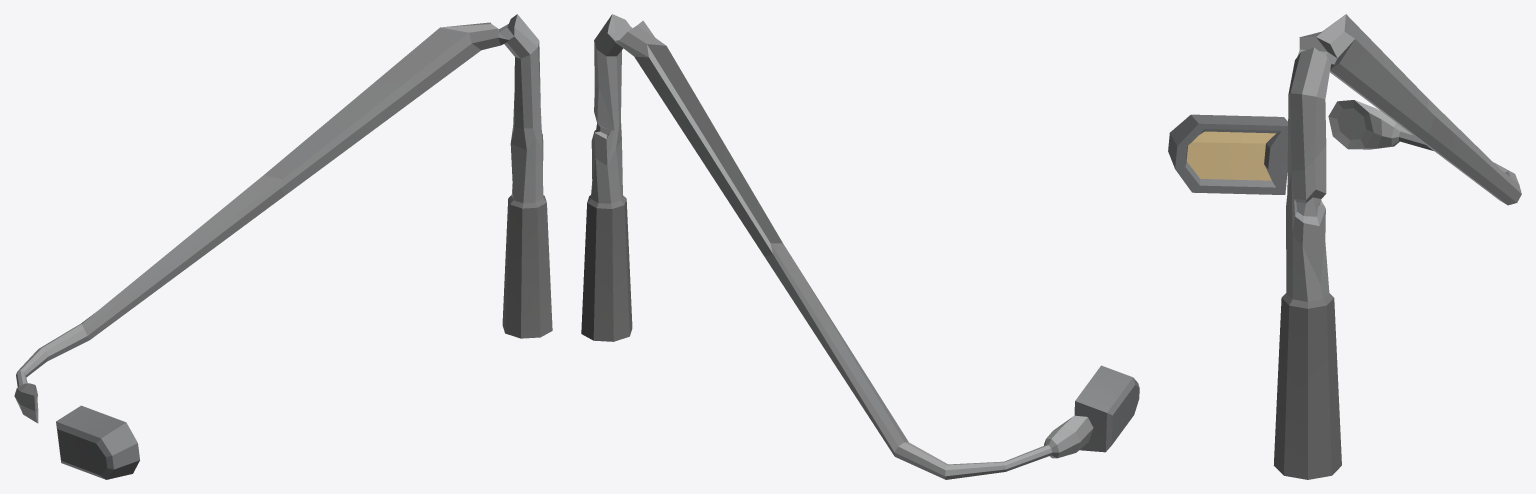
The model's file is lamp_2.glb.
3 renders of one model, left to right at view 1: azimuth 30°, elevation 25°; view 2: azimuth 150°, elevation 25°; view 3: azimuth 270°, elevation 25°, orthographic. The views are drawn at different scales.
Visible parts, largest first — view 1: lamp_2; view 2: lamp_2; view 3: lamp_2.
Boxes of the visible parts, bbox=[...] form: lamp_2: bbox=[14, 14, 552, 479]; lamp_2: bbox=[581, 14, 1139, 479]; lamp_2: bbox=[1168, 14, 1521, 479].
Size of the model in its own units: 4.02 by 2.48 by 1.85.
Materials: 1 (1 with a texture image).
